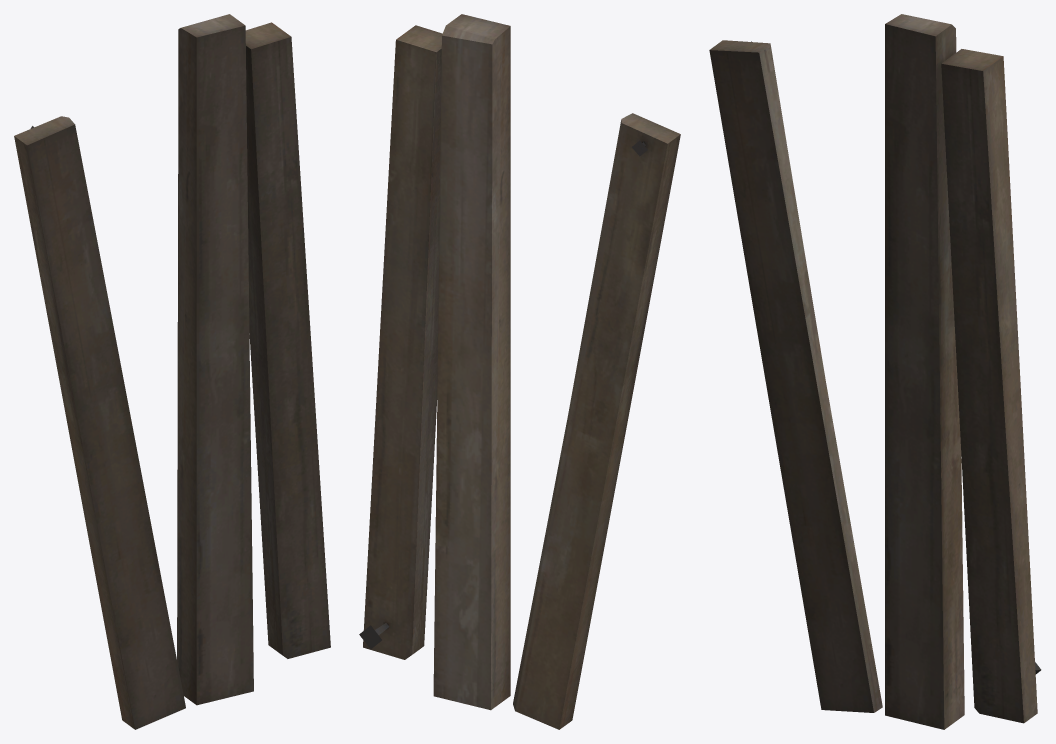
The model's file is props_forest_wood_patch2_small.glb.
3 renders of one model, left to right at view 1: azimuth 30°, elevation 25°; view 2: azimuth 150°, elevation 25°; view 3: azimuth 330°, elevation 25°, orthographic. The views are drawn at different scales.
Visible parts, largest first — view 1: models/props_forest/wood_patch2_small; view 2: models/props_forest/wood_patch2_small; view 3: models/props_forest/wood_patch2_small.
Part boxes in pixels (x1,y1,x2,y2): models/props_forest/wood_patch2_small: [14, 14, 330, 729]; models/props_forest/wood_patch2_small: [359, 14, 680, 729]; models/props_forest/wood_patch2_small: [709, 14, 1041, 729].
Bounding box in the file's own units: 45.03 × 95.94 × 7.44.
1 material, 1 textured.
